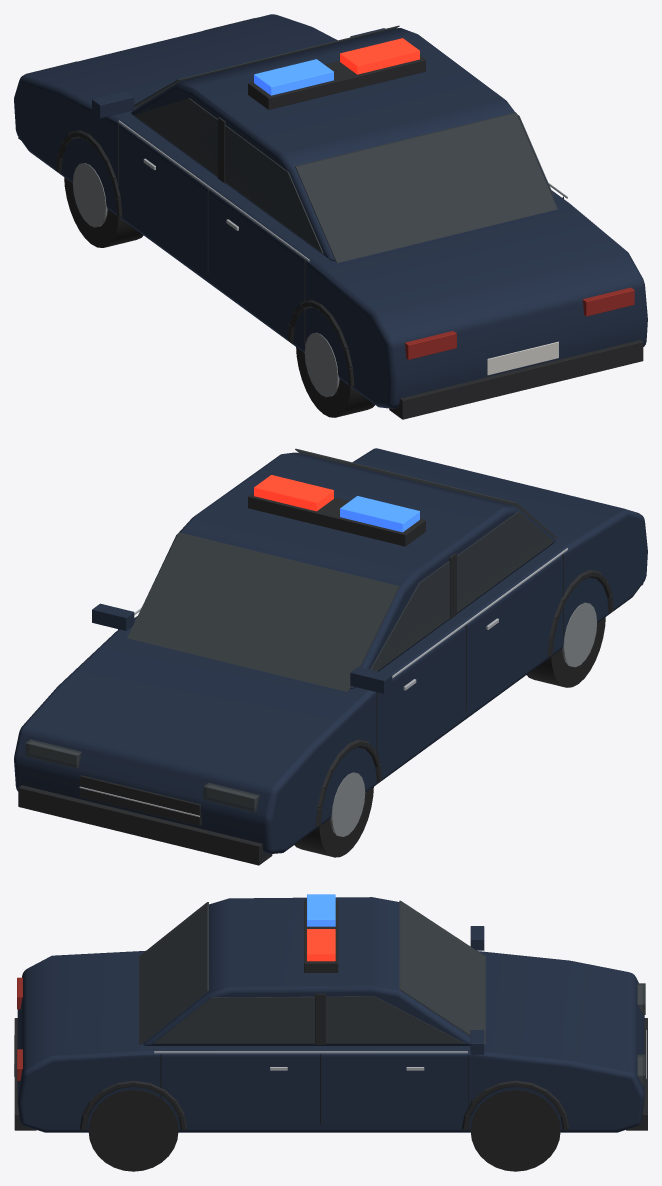
Rendered from veh_escort_car.glb.
3 views of the same model, one above another, from view 1: azimuth 30°, elevation 25°; view 2: azimuth 150°, elevation 25°; view 3: azimuth 270°, elevation 25° (orthographic). The views are drawn at different scales.
Parts seen in each view (by area): view 1: Body; view 2: Body; view 3: Body.
Boxes of the visible parts, x1=… form: Body: x1=14, y1=14, x2=647, y2=419; Body: x1=14, y1=448, x2=647, y2=865; Body: x1=14, y1=894, x2=647, y2=1171.
Size of the model in its own units: 2.04 by 1.58 by 4.65.
